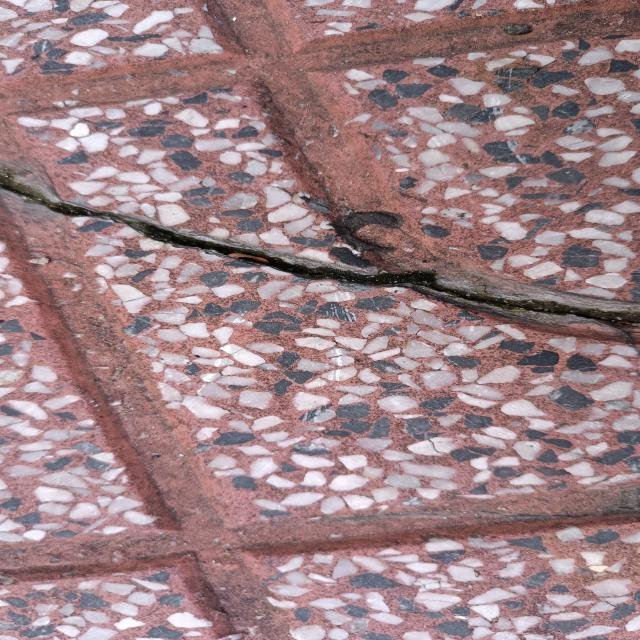diagonal crack: (0, 172, 639, 324)
